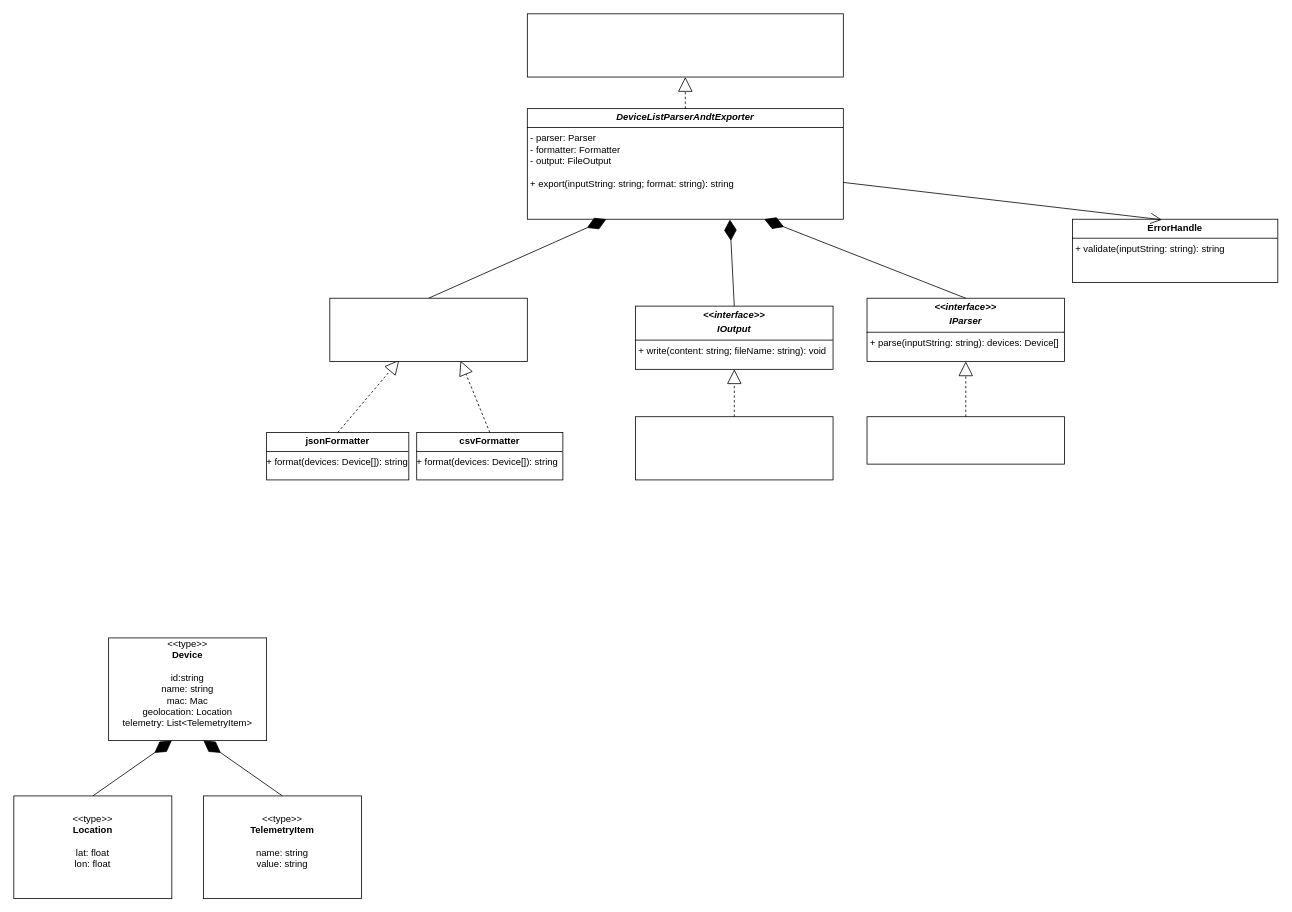
The diagram is 1292 pixels wide and 912 high, and some of its shapes have lost their labels. Each missing label, with the centre of its shape:
"<<Interface>> IExporter + export(inputString: string; format: string): string" belongs at [685,45].
"<<interface>> IFormatter + format(devices: Device[]): string" belongs at [428,329].
"FileOutput + write(content: string; fileName: string): void" belongs at [734,448].
"jsonStringParcer + parse(inputString: string): Device[]" belongs at [965,440].
